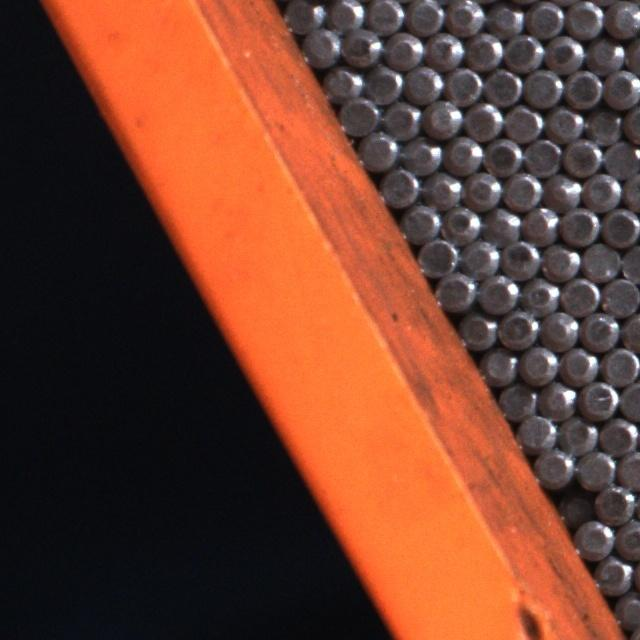tool: (378, 165, 419, 206), (593, 483, 634, 524), (476, 270, 516, 312), (557, 413, 597, 454), (400, 134, 441, 174), (596, 414, 636, 455), (400, 202, 440, 243), (338, 94, 379, 134), (538, 308, 578, 348), (558, 344, 598, 384), (540, 240, 580, 280), (497, 308, 537, 348), (501, 168, 541, 208), (436, 270, 476, 310), (600, 344, 640, 384), (580, 240, 620, 280), (534, 446, 574, 486), (421, 168, 461, 208), (500, 238, 540, 278), (362, 63, 402, 103), (575, 448, 615, 488), (600, 274, 640, 314), (457, 309, 496, 350), (418, 235, 459, 274), (601, 206, 640, 246), (384, 29, 423, 69), (504, 31, 544, 70), (560, 205, 599, 245), (579, 310, 619, 349), (563, 136, 602, 176), (402, 63, 442, 102), (460, 236, 499, 276), (359, 130, 398, 170), (578, 378, 617, 418), (463, 99, 502, 139), (522, 66, 561, 106), (518, 344, 557, 384), (443, 64, 482, 104), (443, 134, 482, 174), (559, 275, 599, 314), (545, 33, 585, 72), (585, 34, 624, 74), (523, 136, 562, 176), (478, 344, 517, 384), (342, 26, 381, 66), (422, 98, 462, 137), (484, 135, 523, 175), (592, 554, 631, 594), (574, 518, 613, 558), (516, 411, 556, 450), (483, 65, 522, 104), (503, 103, 542, 142), (301, 27, 340, 66), (582, 170, 621, 209), (382, 98, 421, 137), (543, 103, 582, 142), (536, 379, 575, 418), (482, 203, 521, 242), (441, 202, 480, 241), (564, 67, 602, 107), (463, 168, 501, 208), (602, 67, 640, 107), (520, 276, 560, 314), (498, 380, 536, 420), (463, 31, 502, 69), (424, 30, 463, 68), (583, 105, 621, 144), (322, 63, 361, 101), (602, 138, 640, 177), (543, 170, 581, 208), (521, 203, 559, 241), (554, 486, 592, 524), (485, 0, 524, 37), (565, 0, 603, 37), (525, 0, 563, 37), (445, 0, 484, 35), (605, 0, 640, 37), (324, 0, 364, 32), (406, 0, 444, 33), (366, 0, 404, 32), (284, 0, 322, 32), (614, 518, 640, 560), (613, 588, 640, 626), (617, 448, 640, 488), (618, 380, 640, 420), (621, 310, 640, 350), (621, 241, 640, 281), (622, 170, 640, 209), (622, 103, 640, 142)
